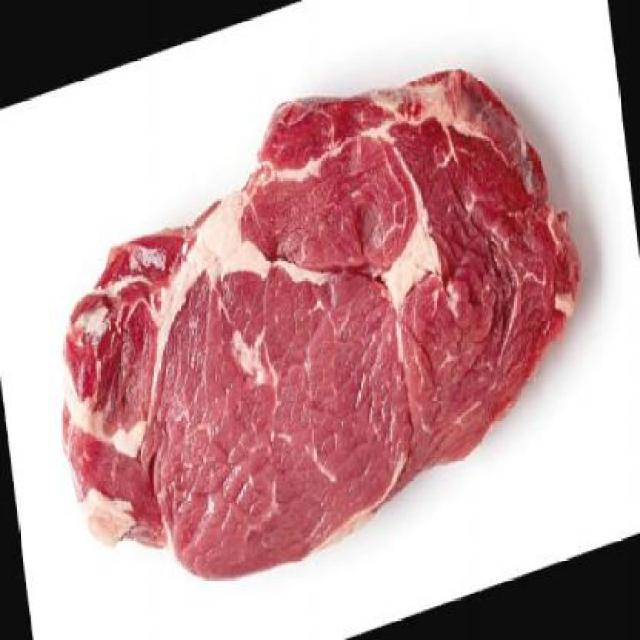beef: (61, 64, 582, 588)
